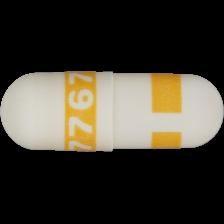10544-918: (0, 0, 224, 224)
